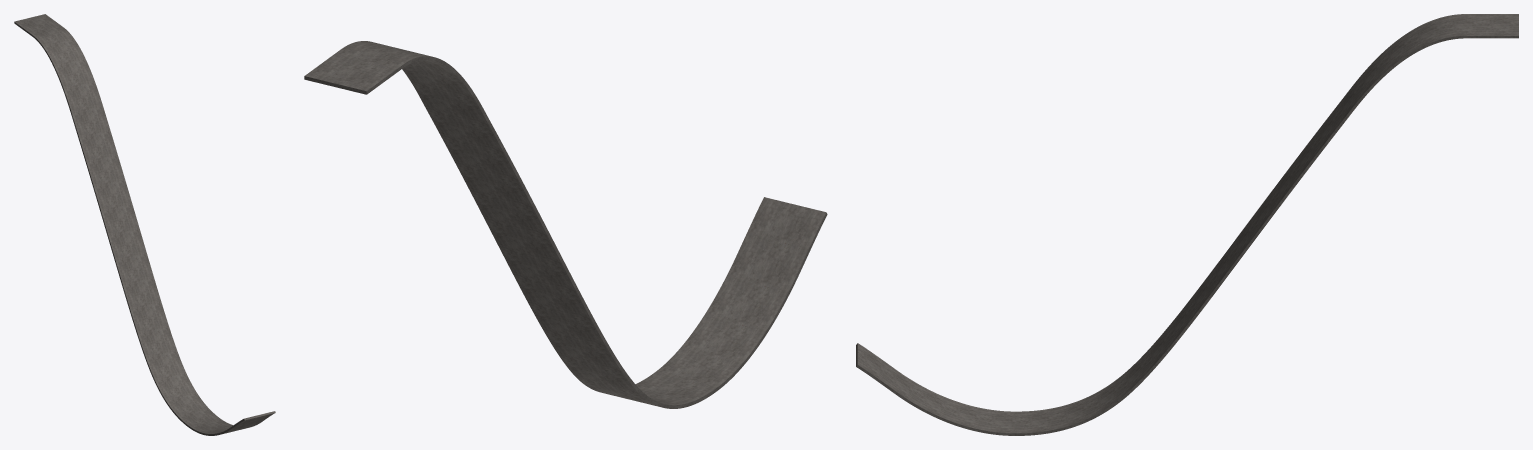
File: ConcreteRamp1.dae
3 views of the same model, side by side, from view 1: azimuth 30°, elevation 25°; view 2: azimuth 150°, elevation 25°; view 3: azimuth 270°, elevation 25° (orthographic). The views are drawn at different scales.
Parts seen in each view (by area): view 1: Cube; view 2: Cube; view 3: Cube.
Part boxes in pixels (x1,y1,x2,y2): Cube: [14, 14, 275, 435]; Cube: [304, 41, 827, 408]; Cube: [856, 14, 1518, 435].
Bounding box in the file's own units: 27.45 × 352 × 234.
Materials: 1 (1 with a texture image).
